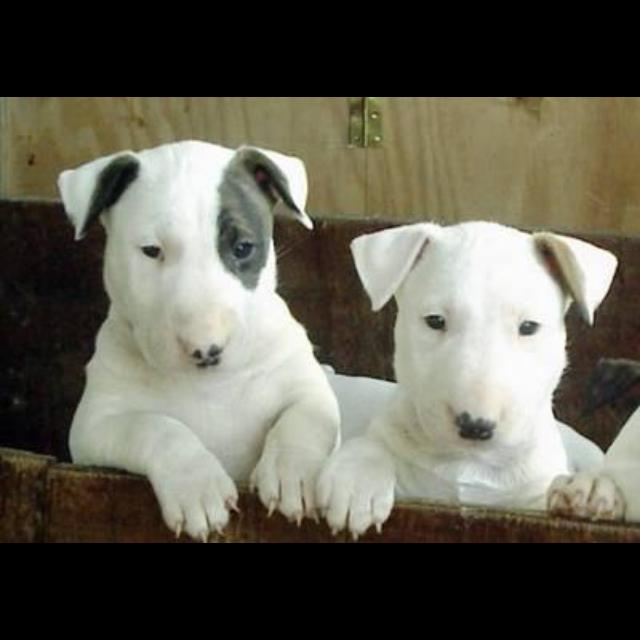bullterrier: (57, 138, 343, 542), (315, 220, 627, 541)
